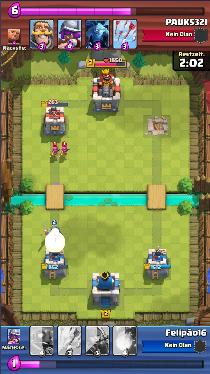ally_knight: (43, 227, 64, 242)
enemy_archer: (48, 146, 60, 158), (60, 146, 69, 157)
